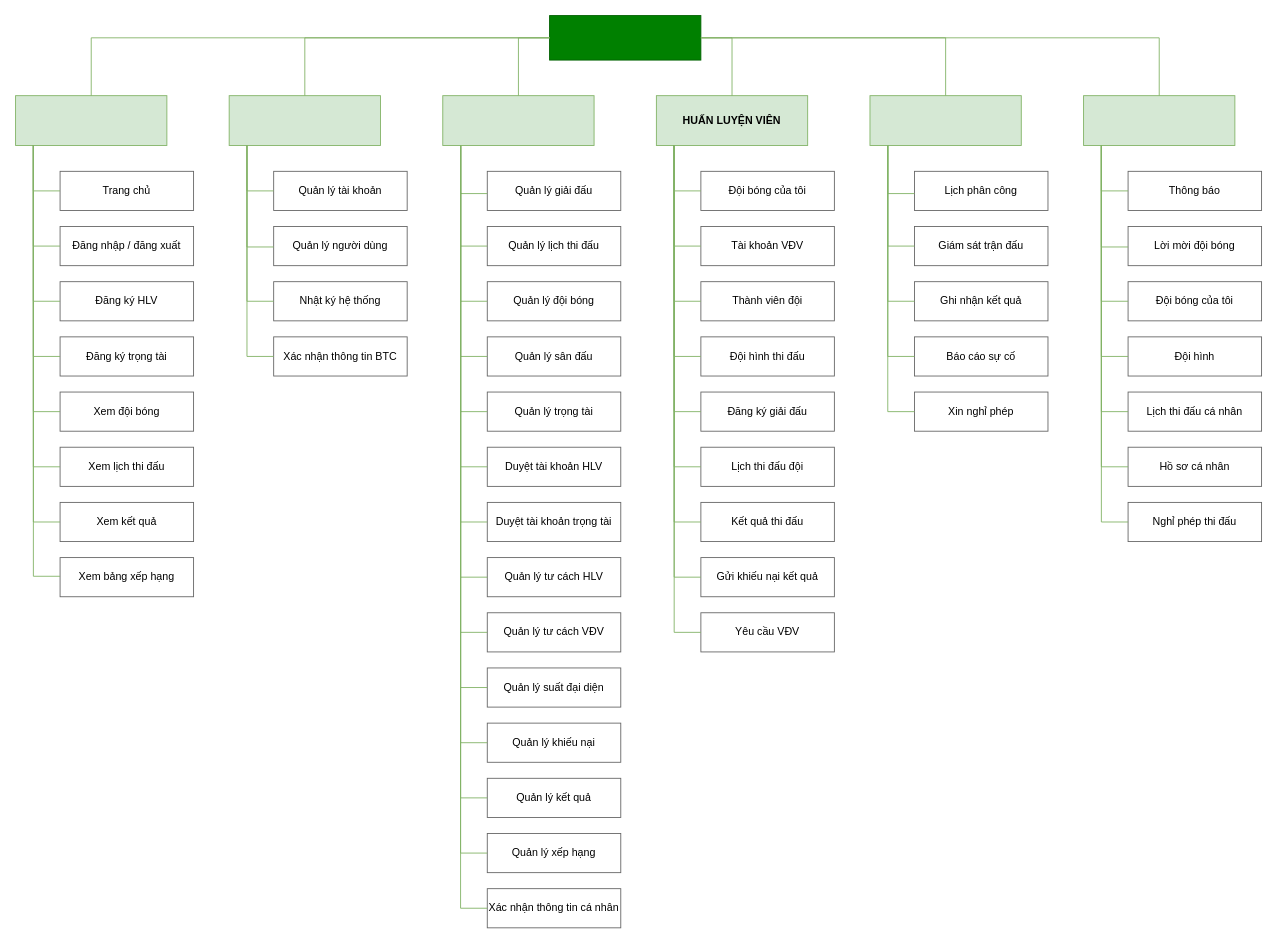
Some shapes in this 1277 by 943 pixel diagram are drawn without their labels. Here are the shapes that lost their labels. From the top down, the box of each, then its label:
(549, 15, 701, 60): VTMS
(15, 95, 167, 146): CÔNG KHAI
(228, 95, 380, 146): QUẢN TRỊ HỆ THỐNG
(442, 95, 594, 146): BAN TỔ CHỨC
(869, 95, 1021, 146): TRỌNG TÀI
(1083, 95, 1235, 146): VẬN ĐỘNG VIÊN
